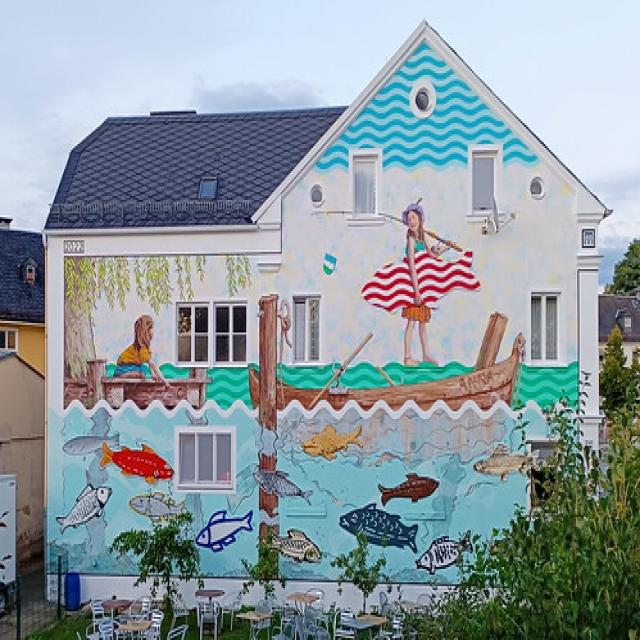Normal_building: (40, 14, 615, 608)
